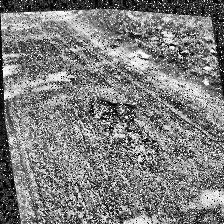pothole: (85, 92, 137, 134)
